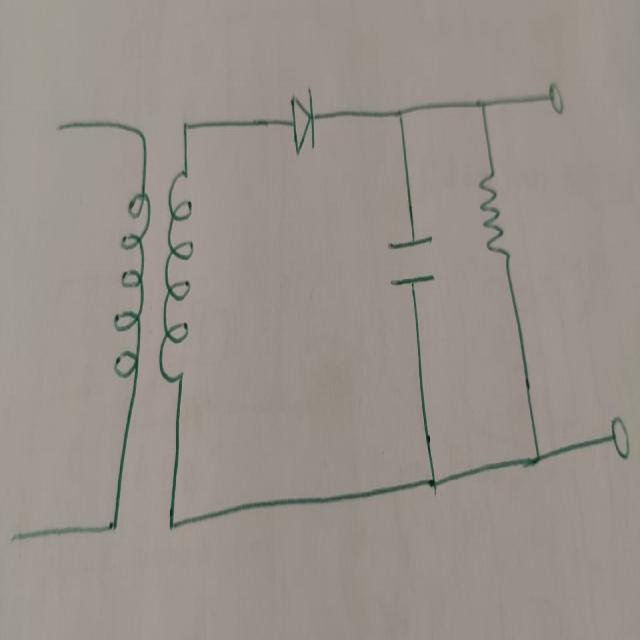capacitor: (388, 227, 433, 291)
diode: (290, 80, 317, 152)
junction: (476, 81, 494, 119), (164, 504, 177, 544), (108, 504, 120, 541), (136, 120, 148, 155), (426, 466, 438, 496), (394, 96, 406, 124), (180, 113, 191, 143), (532, 446, 542, 469)
resistor: (478, 160, 510, 272)
terminal: (545, 72, 564, 119), (610, 409, 628, 456), (8, 520, 21, 553), (54, 115, 64, 138)
transformer: (114, 165, 194, 385)
